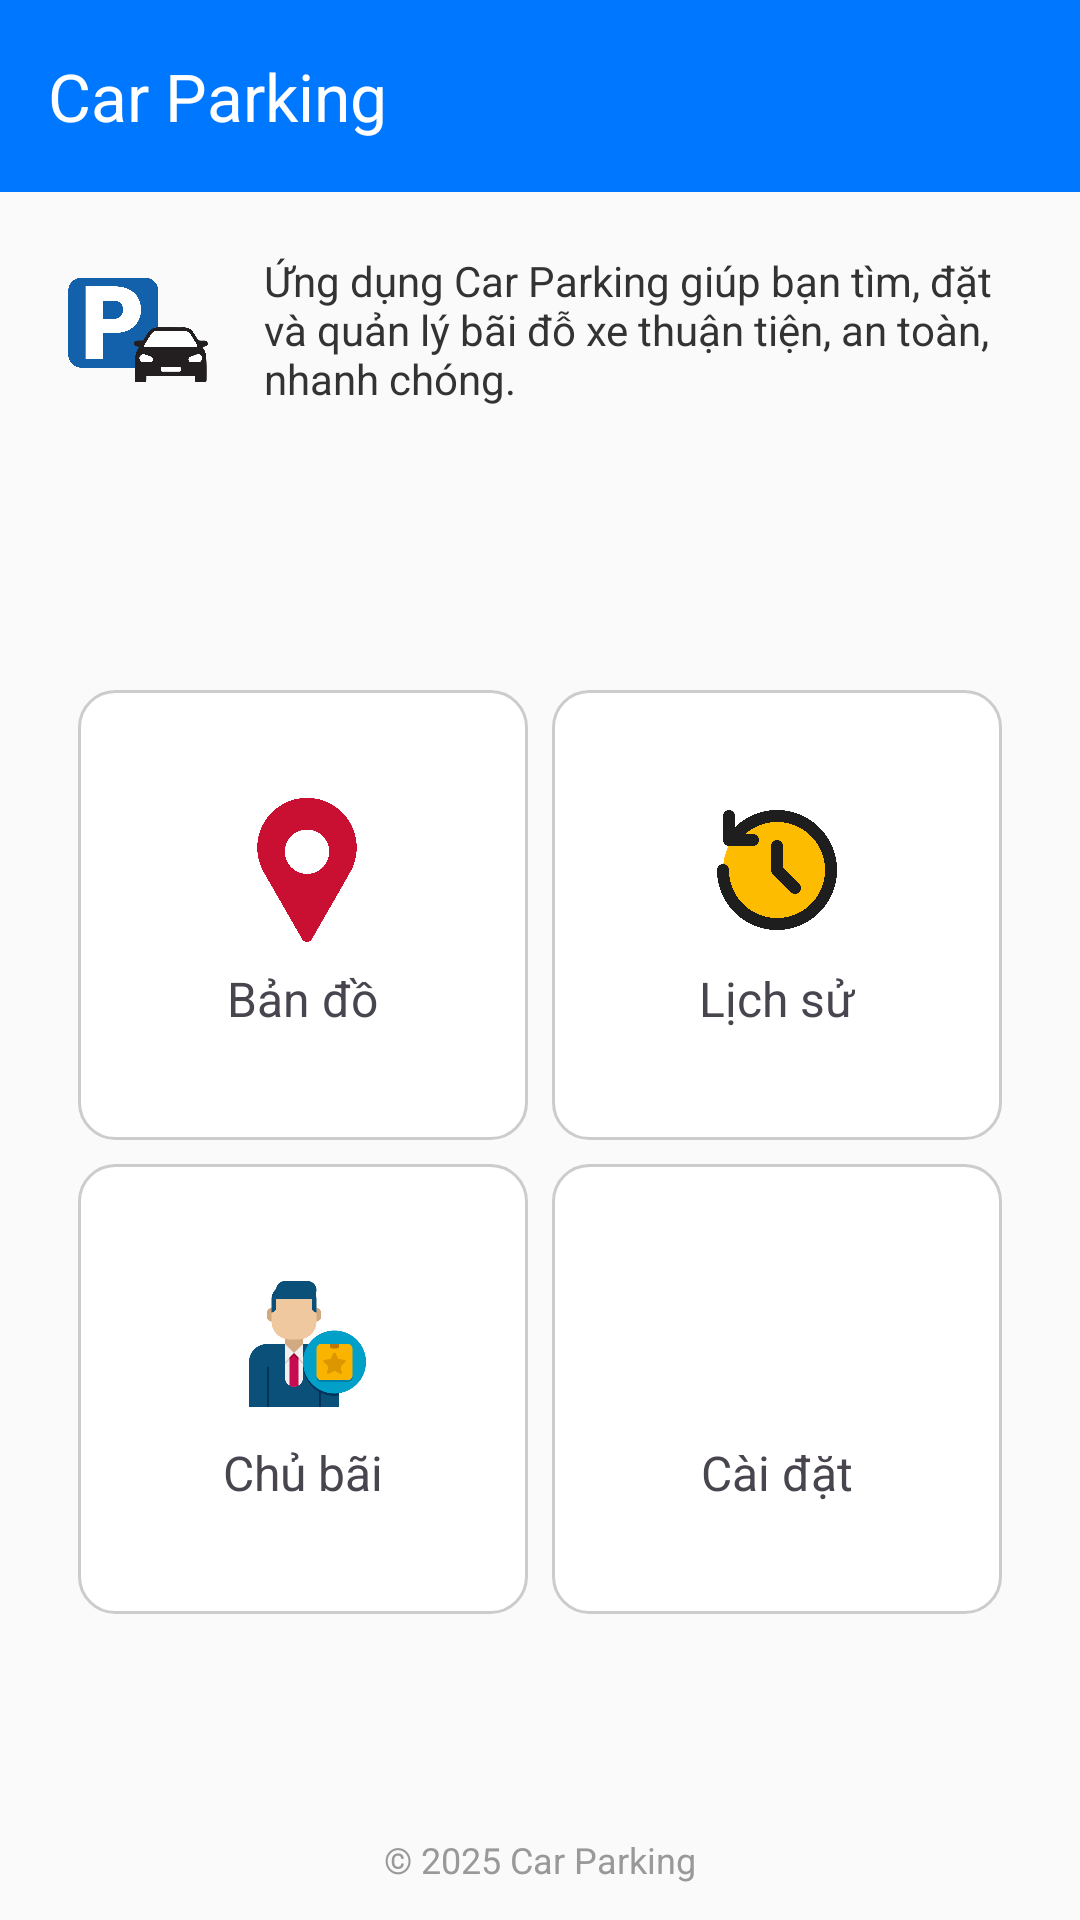

Icons on this 1080px x 1920px Android screen, each with the point to tap as (x=x, y=y):
history: (x=777, y=870)
owner: (x=307, y=1344)
